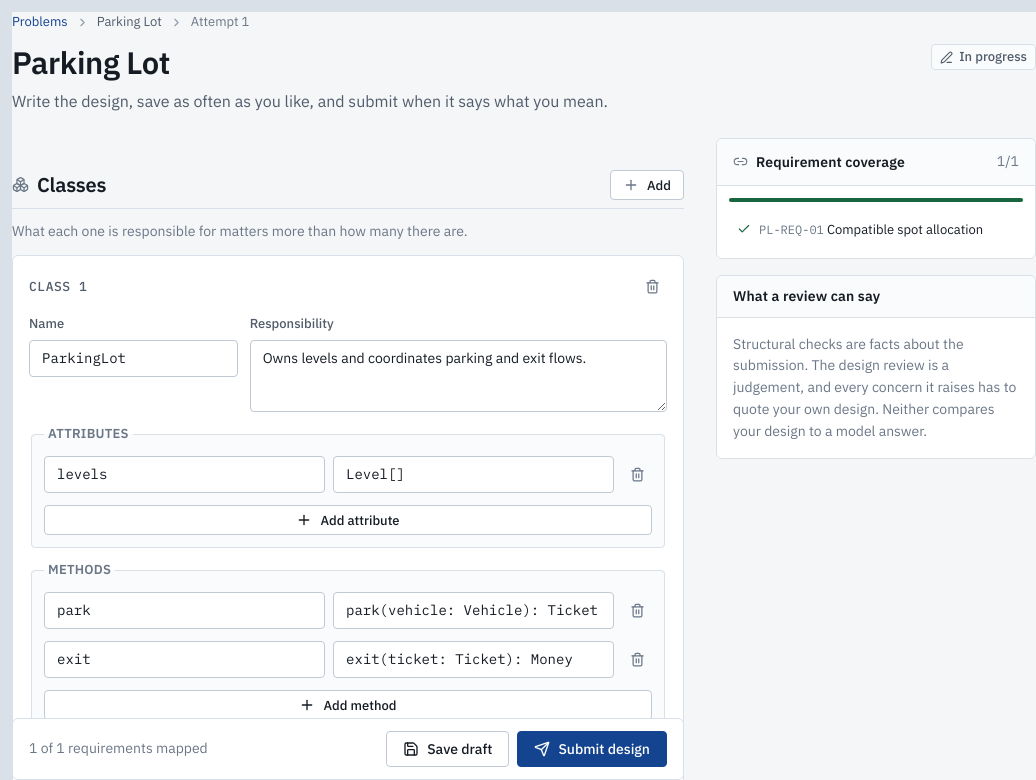
Test case: the attempt workspace › shows the server's message when a submission is refused
Click the button "Submit design": click(592, 749) left=517, top=731, right=667, bottom=767
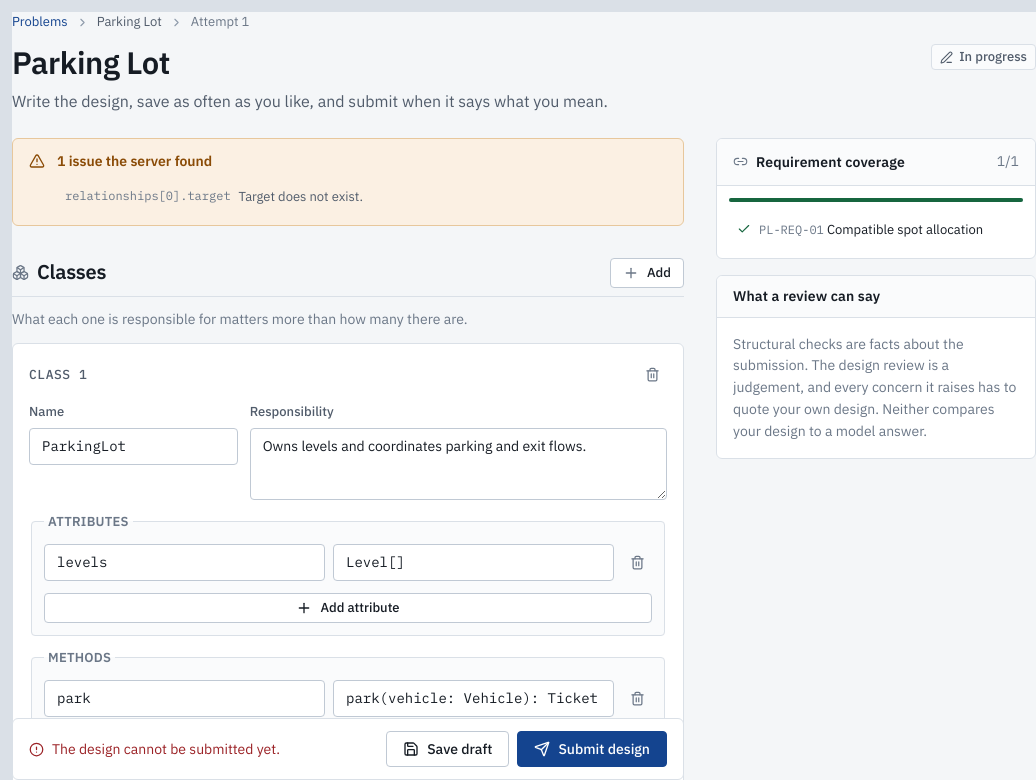
Now the text "The design cannot be submitted yet." is shown, box left=29, top=738, right=280, bottom=760
Now the text "Target does not exist." is shown, box left=239, top=187, right=363, bottom=207
